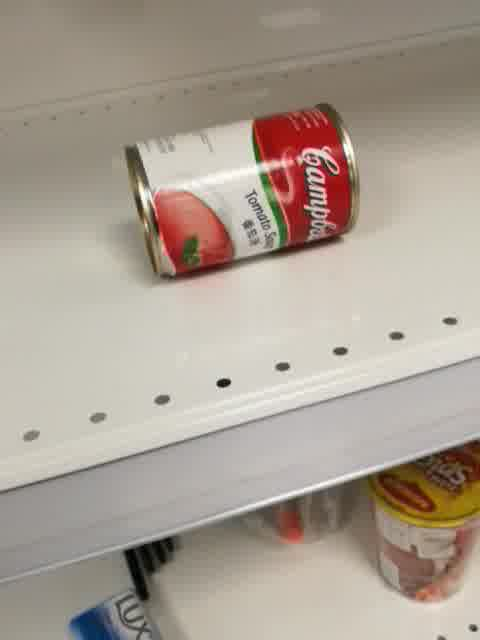tomatosoup: (122, 102, 363, 280)
